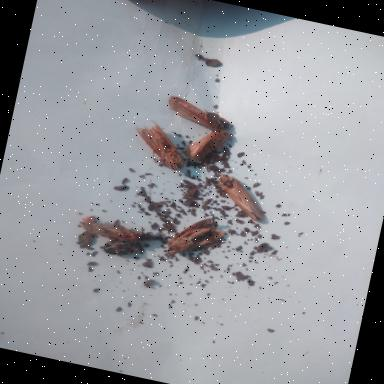abw: (122, 113, 194, 172), (161, 208, 233, 266), (207, 170, 274, 226), (164, 92, 234, 132), (180, 121, 236, 166)
